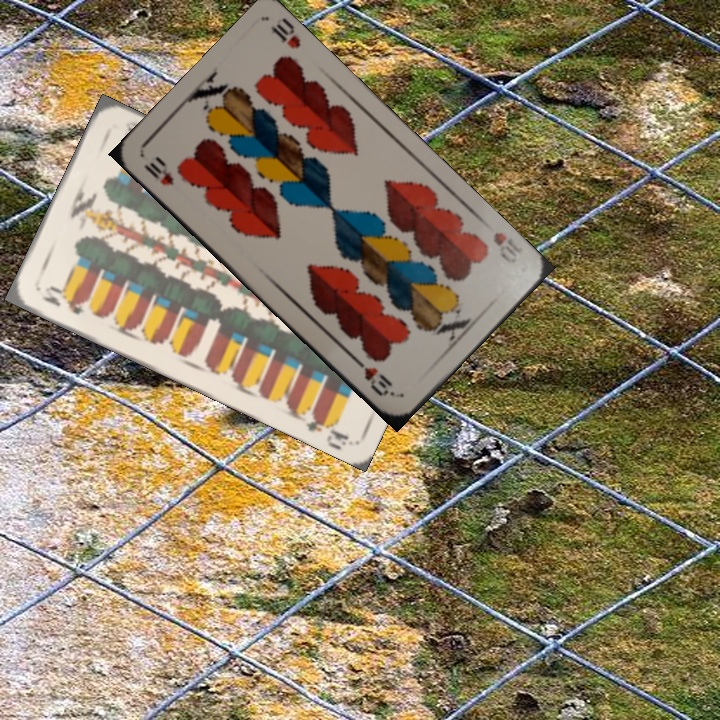E10: (38, 282, 87, 318)
H10: (489, 228, 524, 266), (140, 152, 176, 188)
